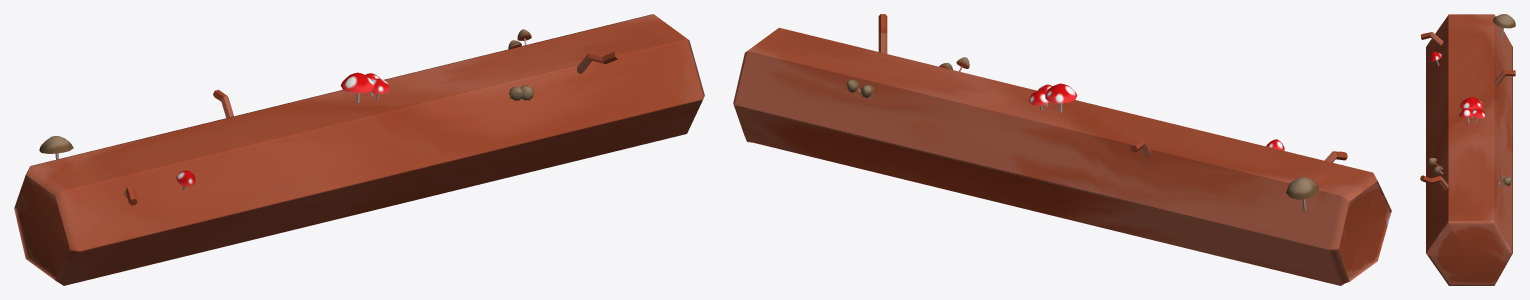
The model's file is log.fbx.
The picture shows the model from 3 angles, left to right: view 1: azimuth 30°, elevation 25°; view 2: azimuth 150°, elevation 25°; view 3: azimuth 270°, elevation 25°; orthographic projection. The views are drawn at different scales.
Parts seen in each view (by area): view 1: pCylinder1, pCone1 (×2), pCylinder4; view 2: pCylinder1, pCone1 (×2); view 3: pCylinder1, pCone1 (×5), pCylinder4, pCylinder3, pCylinder5.
Boxes of the visible parts, bbox=[...] form: pCylinder1: bbox=[14, 14, 704, 285]; pCone1 (×2): bbox=[39, 72, 374, 153]; pCylinder4: bbox=[577, 51, 619, 73]; pCylinder1: bbox=[733, 27, 1391, 285]; pCone1 (×2): bbox=[1045, 83, 1318, 199]; pCylinder1: bbox=[1426, 14, 1512, 285]; pCone1 (×5): bbox=[1429, 14, 1515, 118]; pCylinder4: bbox=[1420, 175, 1448, 189]; pCylinder3: bbox=[1494, 70, 1515, 86]; pCylinder5: bbox=[1420, 32, 1443, 46].
Bounding box in the file's own units: 6.73 × 1.26 × 1.29.
